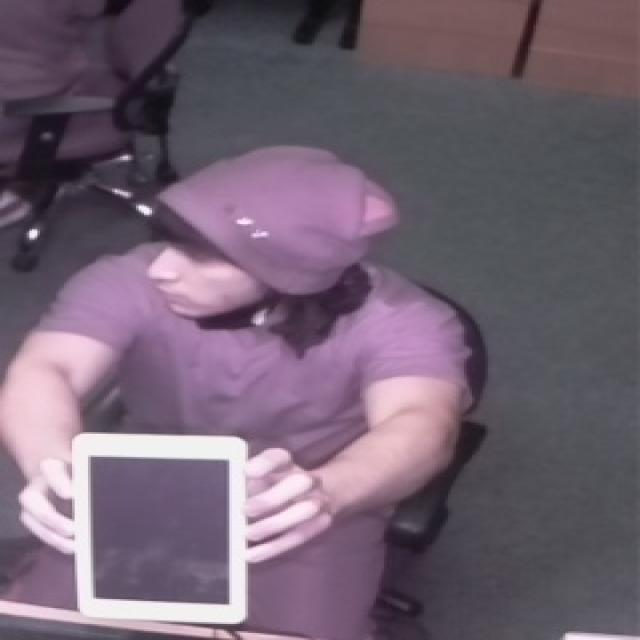phone: (57, 426, 270, 630)
